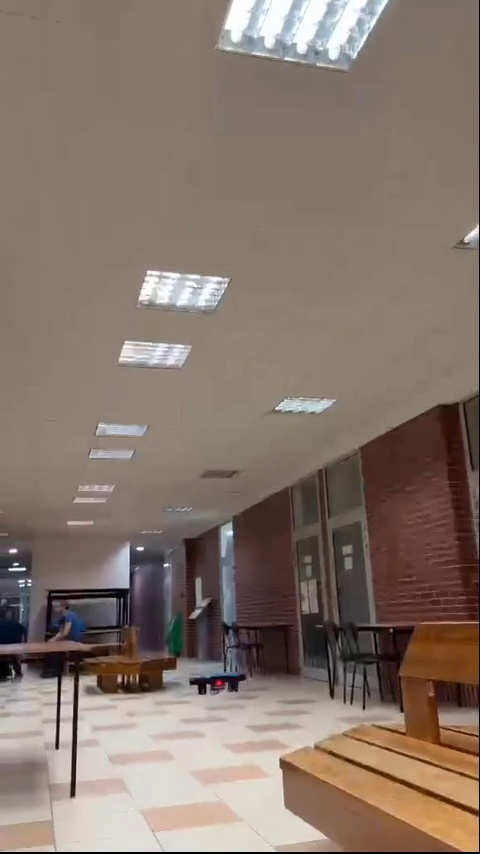drone: (189, 674, 250, 698)
no vest: (45, 596, 89, 653)
